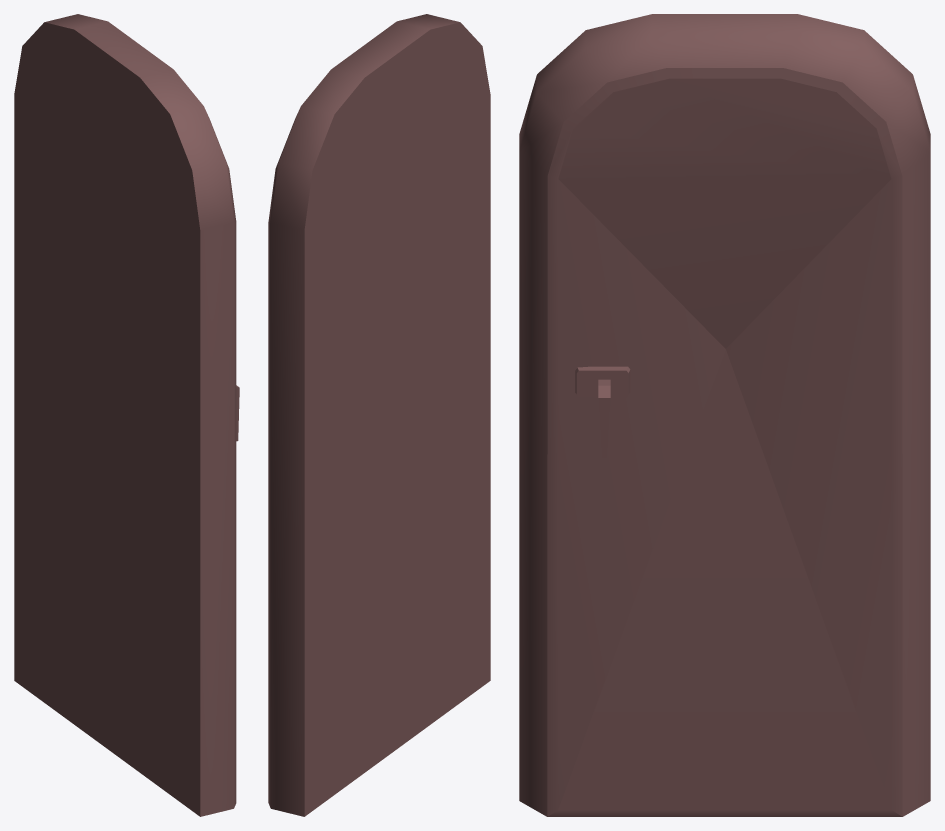
3 views of the same model, side by side, from view 1: azimuth 30°, elevation 25°; view 2: azimuth 150°, elevation 25°; view 3: azimuth 270°, elevation 25° (orthographic). The views are drawn at different scales.
Parts seen in each view (by area): view 1: SM_H4_D2; view 2: SM_H4_D2; view 3: SM_H4_D2.
Part boxes in pixels (bbox=[...]): SM_H4_D2: bbox=[14, 14, 239, 816]; SM_H4_D2: bbox=[268, 14, 490, 816]; SM_H4_D2: bbox=[519, 14, 930, 816].
Bounding box in the file's own units: 31.53 × 135 × 281.
